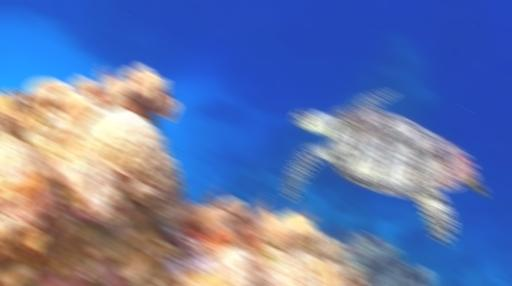Fish: (283, 91, 486, 243)
